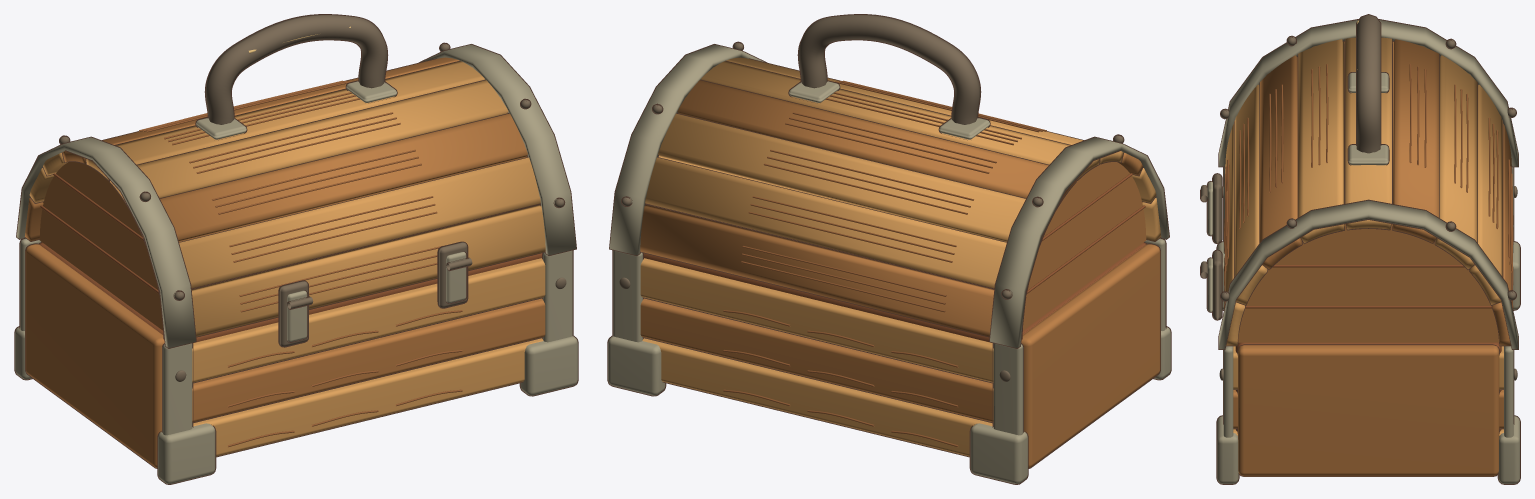
File: assembly_10004.glb
The picture shows the model from 3 angles, left to right: view 1: azimuth 30°, elevation 25°; view 2: azimuth 150°, elevation 25°; view 3: azimuth 270°, elevation 25°; orthographic projection.
Parts seen in each view (by area): view 1: Surface_woodlight.002, Surface_wood.002, Surface_metal.003, Surface_ink.003, Surface_edge.003, Surface_grain.002, Surface_wooddark.002; view 2: Surface_wood.002, Surface_woodlight.002, Surface_metal.003, Surface_grain.002, Surface_ink.003, Surface_edge.003, Surface_wooddark.002; view 3: Surface_wood.002, Surface_woodlight.002, Surface_metal.003, Surface_ink.003, Surface_grain.002, Surface_edge.003, Surface_wooddark.002.
Part boxes in pixels (<box>): Surface_woodlight.002: <box>29,61,545,456</box>; Surface_wood.002: <box>25,57,545,467</box>; Surface_metal.003: <box>15,44,577,483</box>; Surface_ink.003: <box>14,14,578,484</box>; Surface_edge.003: <box>59,15,566,381</box>; Surface_grain.002: <box>139,80,462,447</box>; Surface_wooddark.002: <box>39,173,542,342</box>; Surface_wood.002: <box>640,80,1160,467</box>; Surface_woodlight.002: <box>640,57,1161,456</box>; Surface_metal.003: <box>608,44,1170,483</box>; Surface_grain.002: <box>723,80,1046,447</box>; Surface_ink.003: <box>607,14,1171,484</box>; Surface_edge.003: <box>619,15,1123,381</box>; Surface_wooddark.002: <box>643,173,1146,342</box>; Surface_wood.002: <box>1233,39,1511,476</box>; Surface_woodlight.002: <box>1225,37,1503,435</box>; Surface_metal.003: <box>1207,20,1519,483</box>; Surface_ink.003: <box>1200,14,1520,484</box>; Surface_grain.002: <box>1224,64,1513,309</box>; Surface_edge.003: <box>1201,15,1517,380</box>; Surface_wooddark.002: <box>1235,265,1501,431</box>.
Bounding box in the file's own units: 0.833 × 0.6964 × 0.5671.
